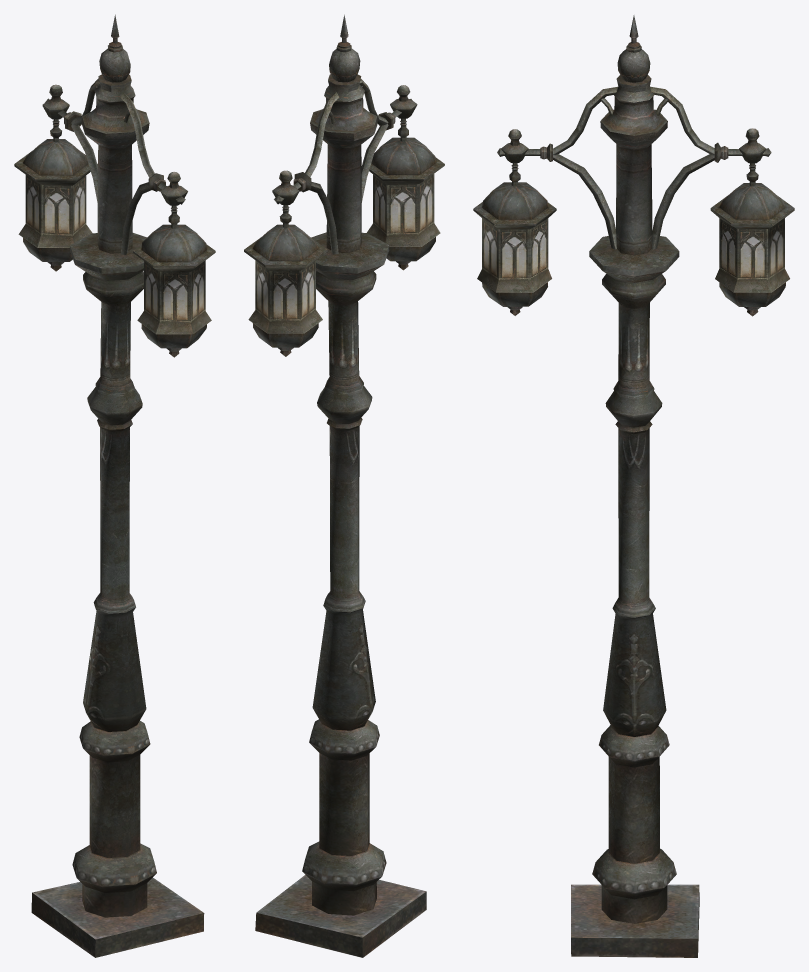
File: bg_lut_lucastle_streetlight01_sm_artree.FBX
The picture shows the model from 3 angles, left to right: view 1: azimuth 30°, elevation 25°; view 2: azimuth 150°, elevation 25°; view 3: azimuth 270°, elevation 25°; orthographic projection.
Parts seen in each view (by area): view 1: bg_lut_lucastle_streetlight01_sm_artree; view 2: bg_lut_lucastle_streetlight01_sm_artree; view 3: bg_lut_lucastle_streetlight01_sm_artree.
Boxes of the visible parts, x1,y1,x2,y2 form: bg_lut_lucastle_streetlight01_sm_artree: [14, 14, 215, 957]; bg_lut_lucastle_streetlight01_sm_artree: [244, 14, 444, 957]; bg_lut_lucastle_streetlight01_sm_artree: [473, 15, 794, 957].
Size of the model in its own units: 63.71 by 510 by 162.
